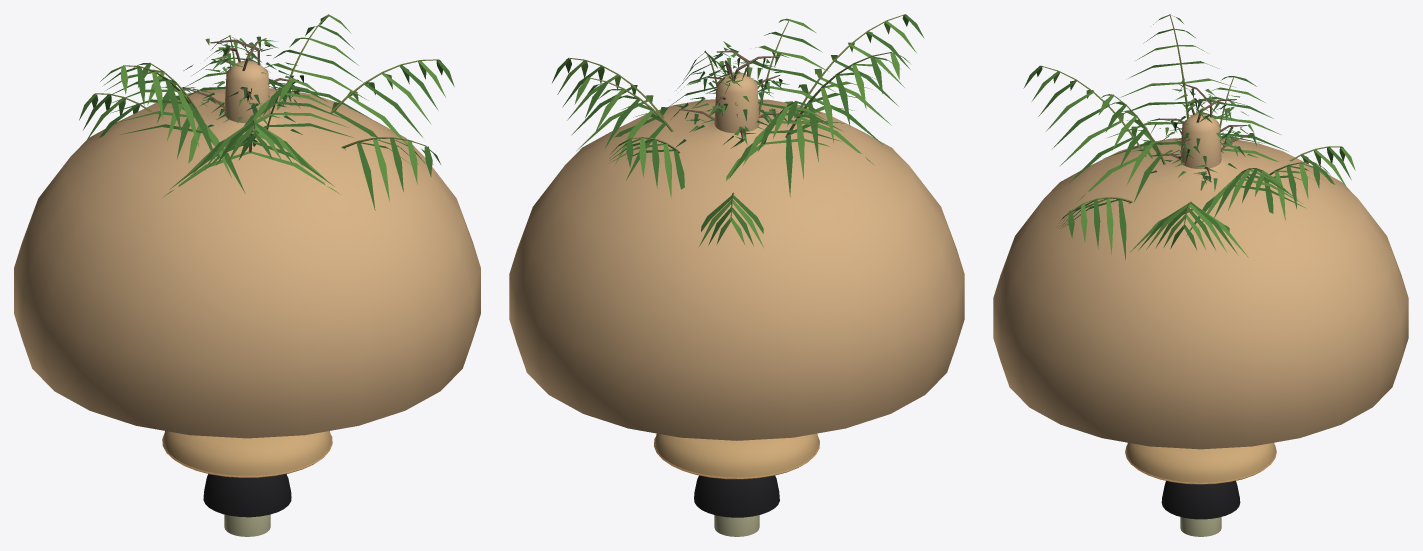
The model's file is interior.glb.
3 views of the same model, side by side, from view 1: azimuth 30°, elevation 25°; view 2: azimuth 150°, elevation 25°; view 3: azimuth 270°, elevation 25° (orthographic). The views are drawn at different scales.
Parts seen in each view (by area): view 1: AcornCap, Kentia, RattanShade, DomeLamp, Ficus, StepLamp; view 2: AcornCap, Kentia, RattanShade, DomeLamp, Ficus, StepLamp; view 3: AcornCap, Kentia, RattanShade, DomeLamp, Ficus, StepLamp.
Part boxes in pixels (bbox=[...]): AcornCap: bbox=[14, 60, 480, 438]; Kentia: bbox=[79, 14, 454, 210]; RattanShade: bbox=[162, 431, 332, 477]; DomeLamp: bbox=[203, 474, 291, 517]; Ficus: bbox=[180, 36, 303, 146]; StepLamp: bbox=[224, 514, 270, 536]; AcornCap: bbox=[509, 72, 964, 440]; Kentia: bbox=[552, 14, 924, 247]; RattanShade: bbox=[654, 433, 819, 479]; DomeLamp: bbox=[694, 475, 779, 517]; Ficus: bbox=[670, 41, 803, 148]; StepLamp: bbox=[714, 515, 759, 536]; AcornCap: bbox=[993, 113, 1408, 449]; Kentia: bbox=[1023, 14, 1355, 259]; RattanShade: bbox=[1125, 442, 1276, 484]; DomeLamp: bbox=[1161, 481, 1240, 519]; Ficus: bbox=[1134, 78, 1257, 191]; StepLamp: bbox=[1180, 517, 1221, 536].
Bounding box in the file's own units: 2.22 × 2.67 × 2.22.
